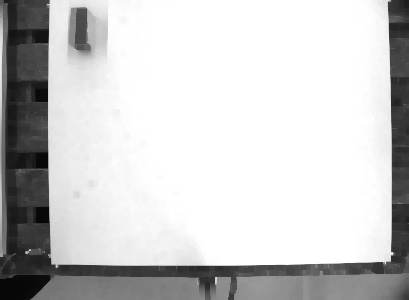b3: (65, 5, 96, 51)
